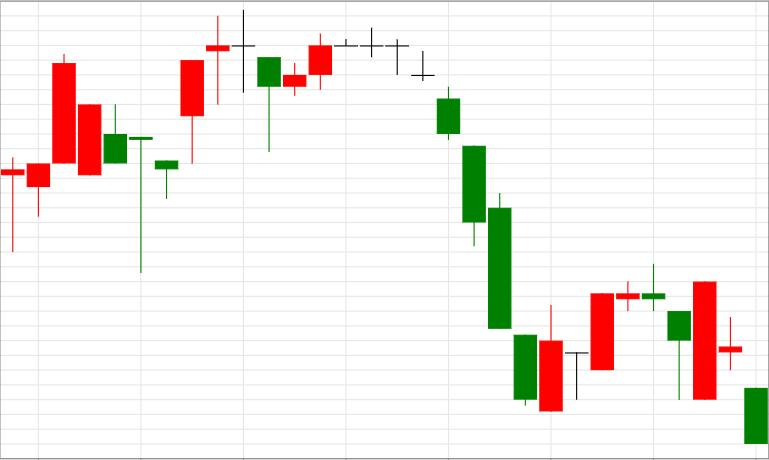bullish_engulfing_rise: (360, 25, 563, 412)
